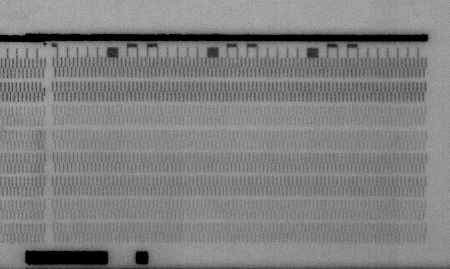Oblique printing: (39, 82, 49, 96)
